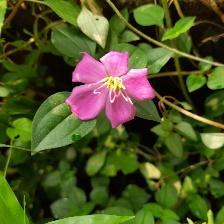malabar melastome: (69, 51, 158, 136)
